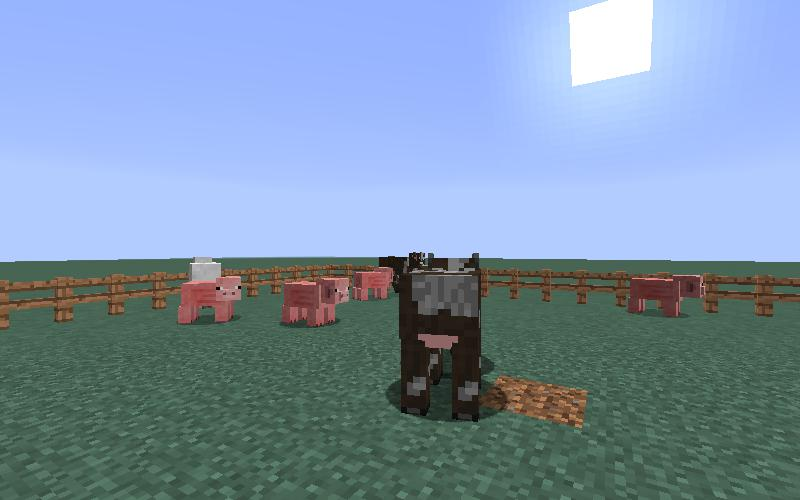cow: (397, 246, 484, 422)
pig: (624, 262, 705, 330), (278, 275, 352, 331), (174, 271, 244, 330), (349, 264, 396, 306)
sheep: (191, 257, 220, 283)
